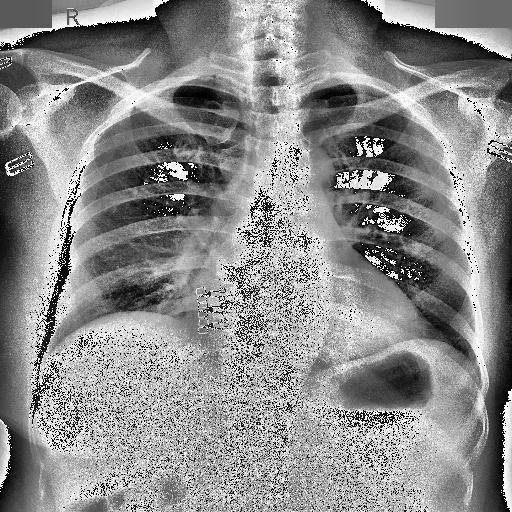3- Cardiomegaly: (190, 281, 424, 361), (186, 276, 418, 356), (182, 274, 425, 350)
